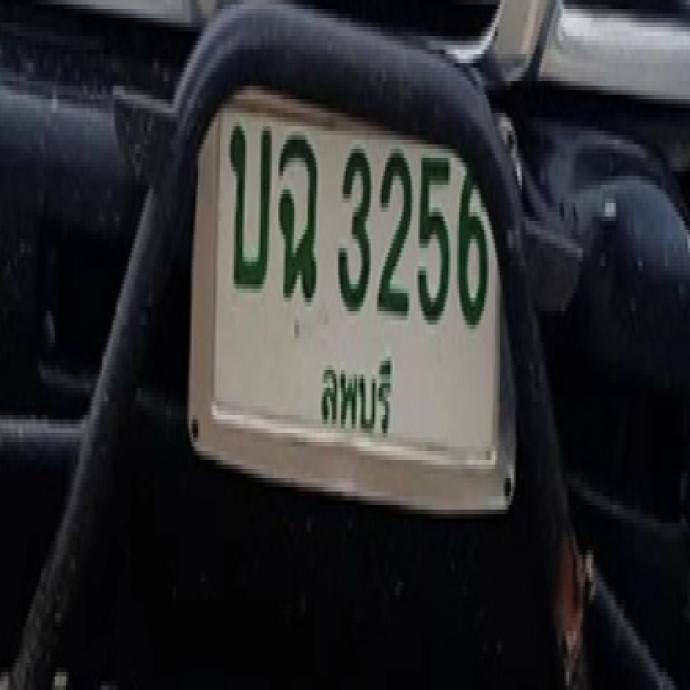2: (376, 148, 410, 312)
3: (335, 145, 369, 309)
5: (415, 150, 449, 319)
6: (457, 163, 496, 323)
A09: (277, 129, 315, 297)
A26: (226, 122, 269, 284)
CBI: (313, 345, 398, 446)
